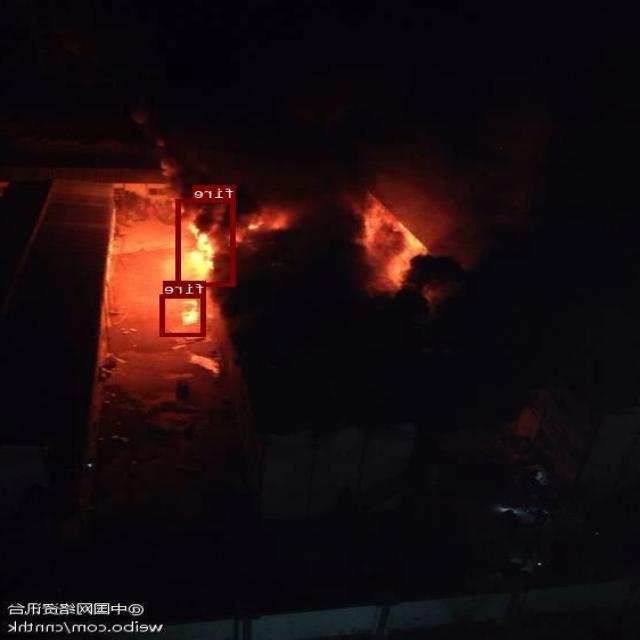fire: (178, 199, 236, 285), (161, 294, 207, 336)
